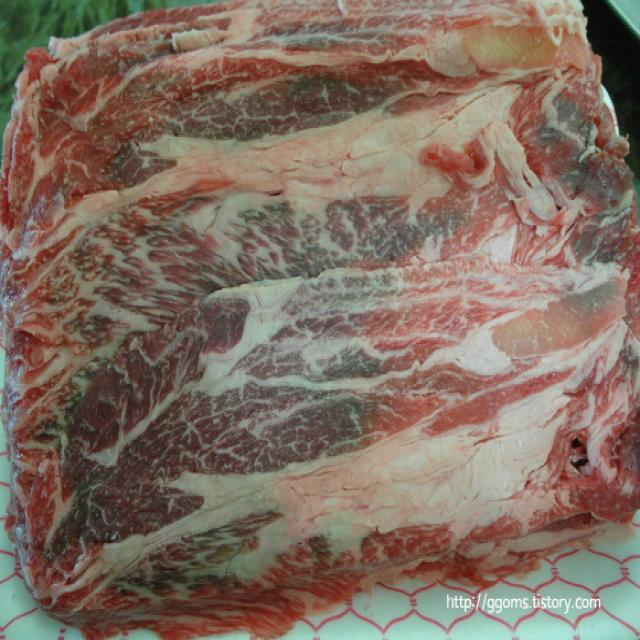pork: (14, 12, 640, 640)
